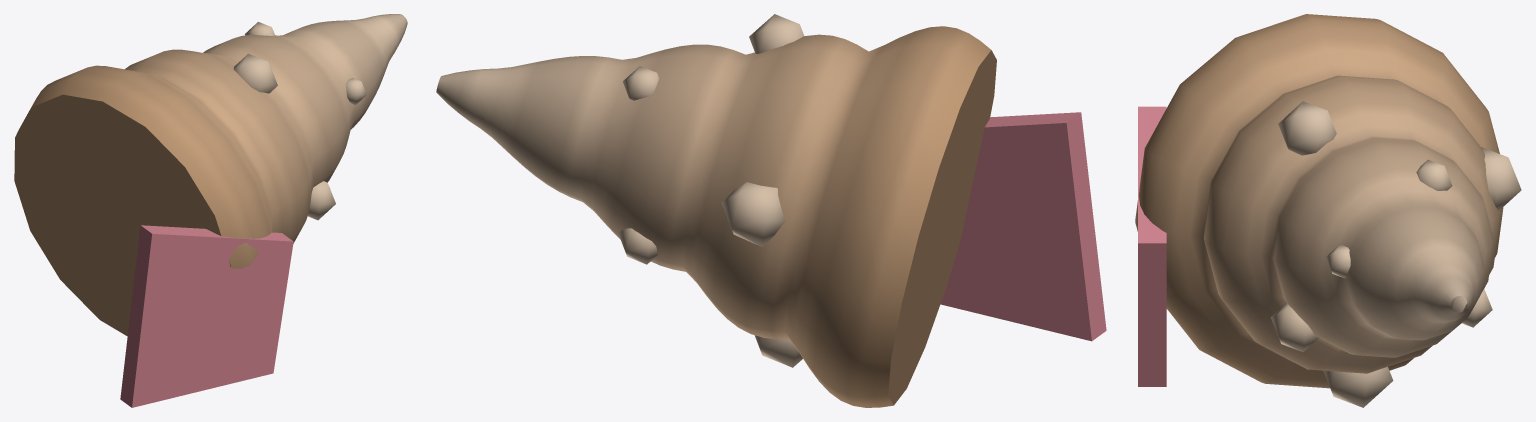
File: item_shell_conch.glb
3 views of the same model, side by side, from view 1: azimuth 30°, elevation 25°; view 2: azimuth 150°, elevation 25°; view 3: azimuth 270°, elevation 25° (orthographic). The views are drawn at different scales.
Parts seen in each view (by area): view 1: item_shell_conch_main; view 2: item_shell_conch_main; view 3: item_shell_conch_main.
Part boxes in pixels (x1,y1,x2,y2): item_shell_conch_main: [14, 14, 407, 407]; item_shell_conch_main: [436, 14, 1106, 407]; item_shell_conch_main: [1135, 14, 1521, 407].
Size of the model in its own units: 0.3991 by 0.2645 by 0.2698.
